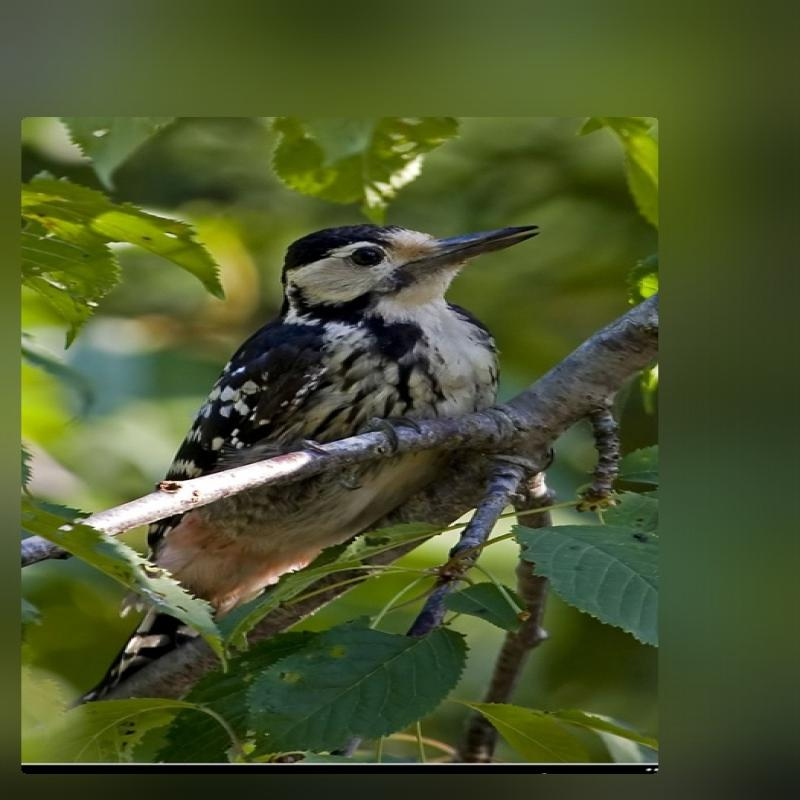white-backed woodpecker: (88, 214, 579, 674)
